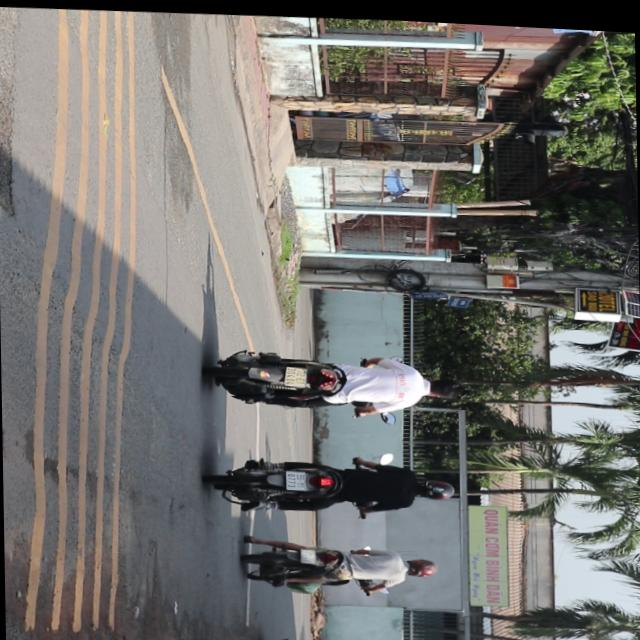helmet: (418, 471, 454, 495), (407, 550, 438, 572)
licenseplate: (207, 336, 468, 416), (209, 444, 458, 518), (243, 527, 440, 594)
motorcyclist: (426, 368, 466, 394)
nohelmet: (284, 362, 308, 382), (286, 466, 306, 486), (302, 544, 316, 559)
